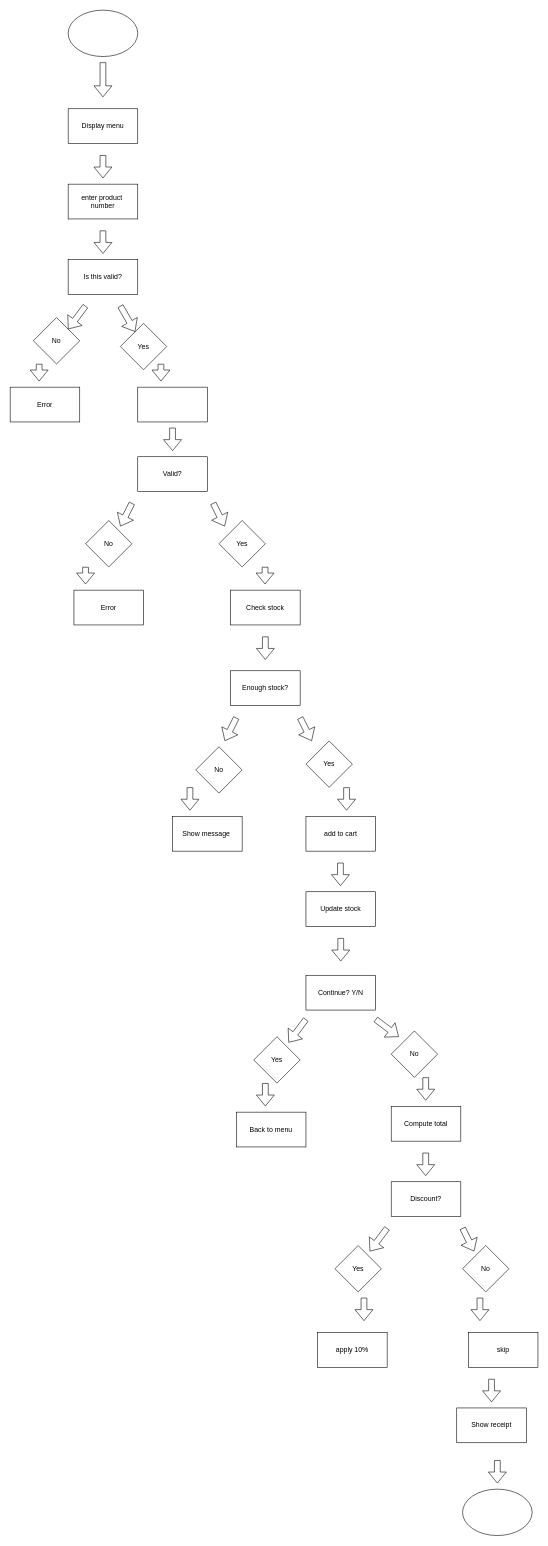
This 548x1546 diagram has some shape labels left out. Each missing label, with the centre of its shape:
"End" goes at point 497,1512.
"Enter quantity" goes at point 172,404.
"Start" goes at point 103,33.
